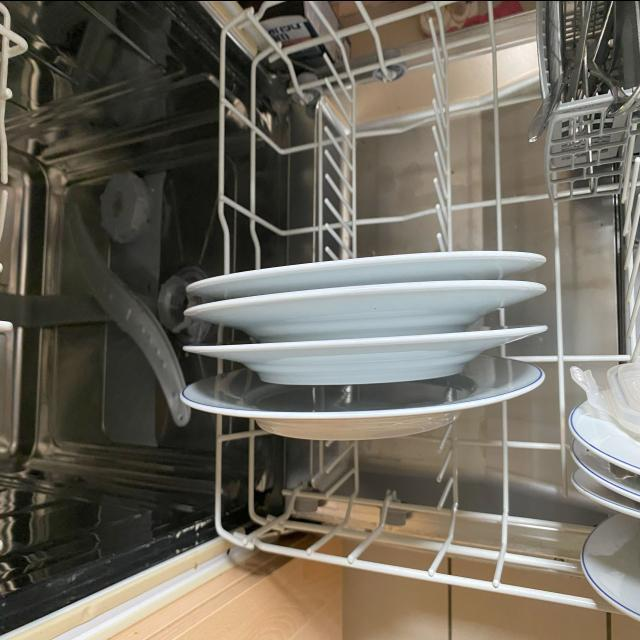empty_slot: (244, 18, 535, 229), (281, 436, 561, 552)
